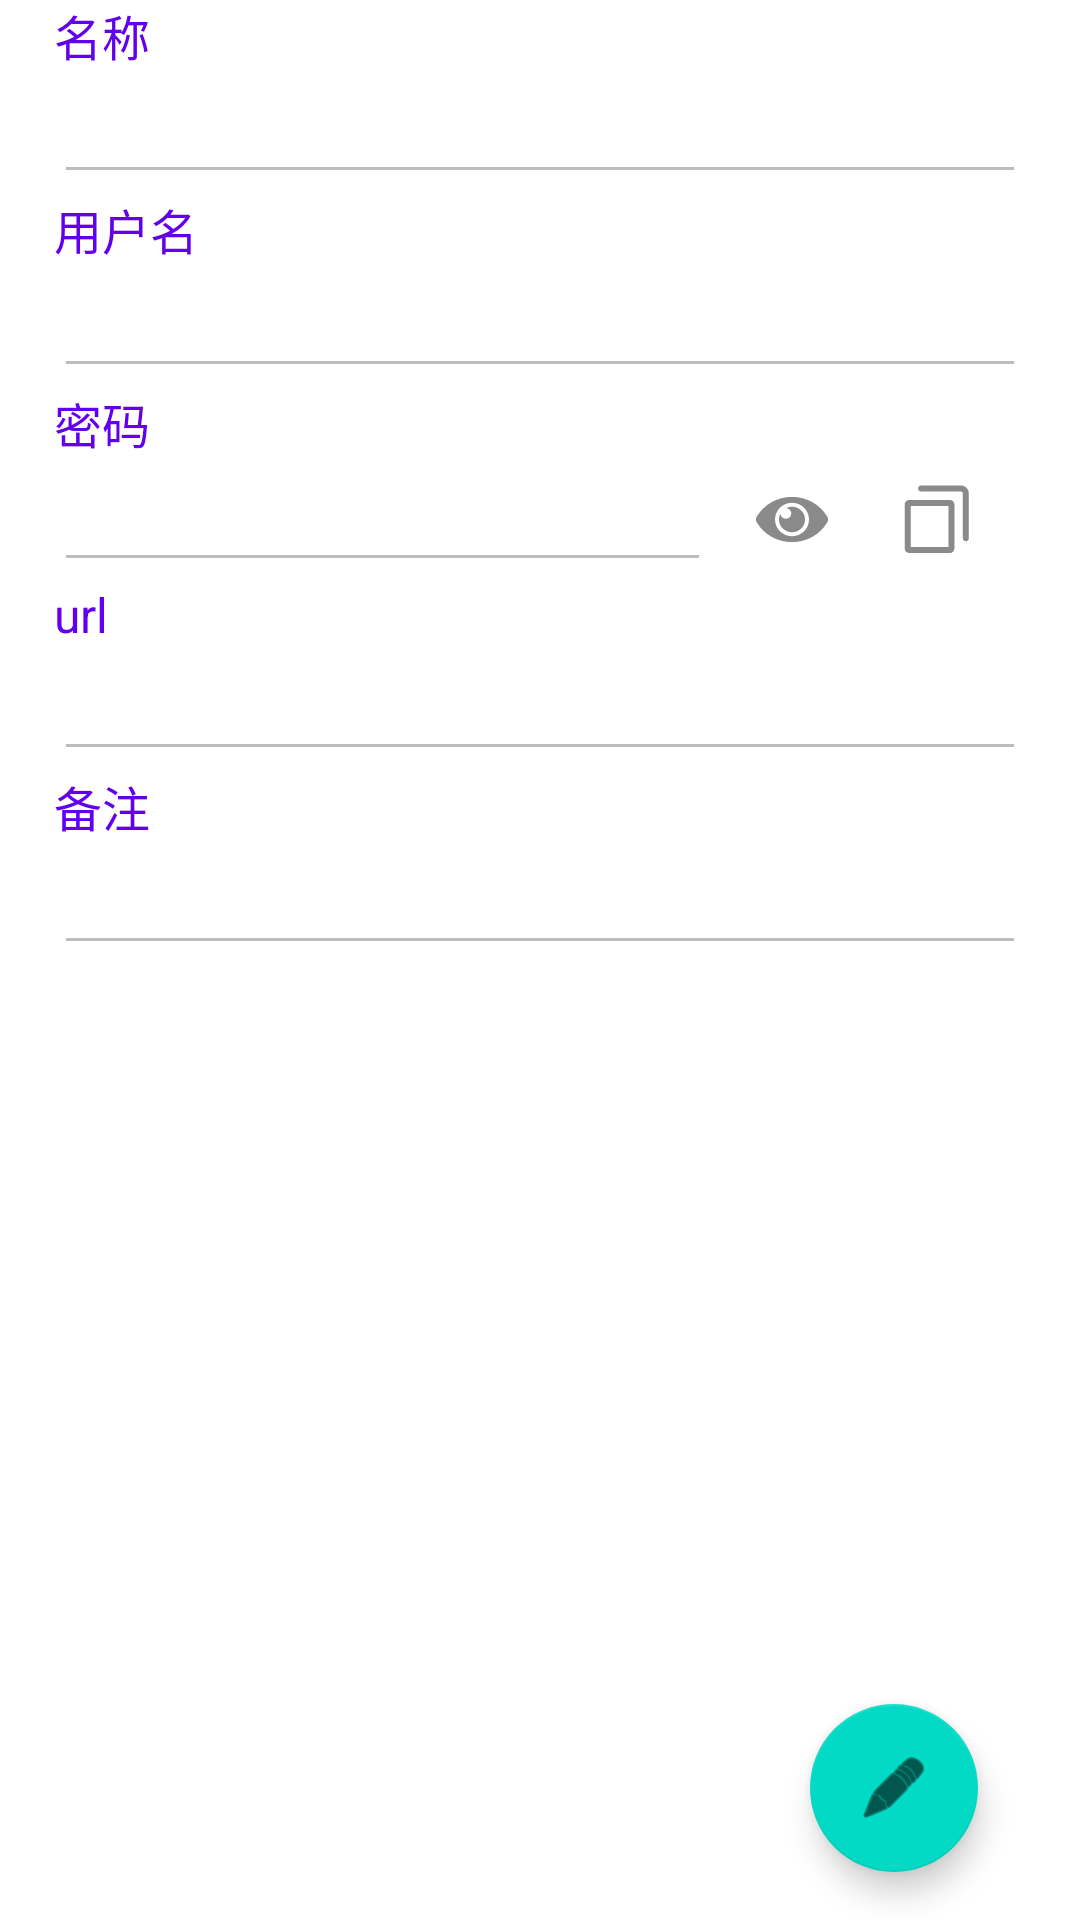

Named icons in this screenshot (1080×1920) and their bounding boxes, {"left": x1, "top": y1, "right": x2, "bottom": y2}:
edit: {"left": 810, "top": 1704, "right": 978, "bottom": 1872}
password: {"left": 756, "top": 497, "right": 828, "bottom": 542}
